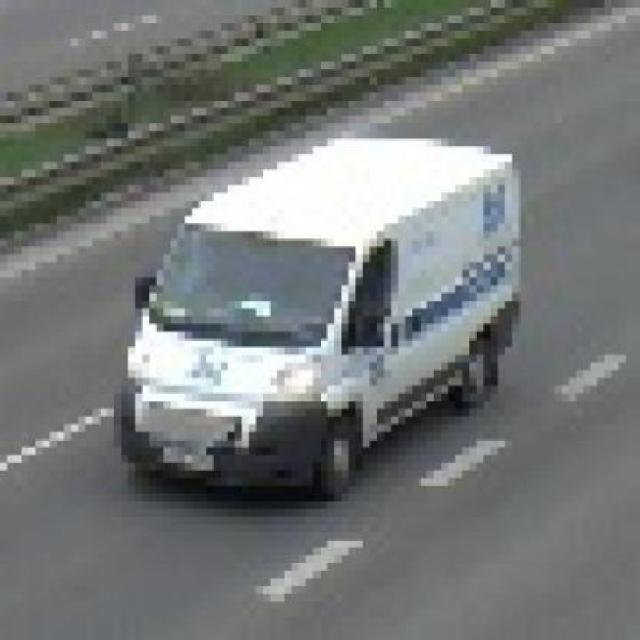vehicle: (115, 130, 531, 514)
